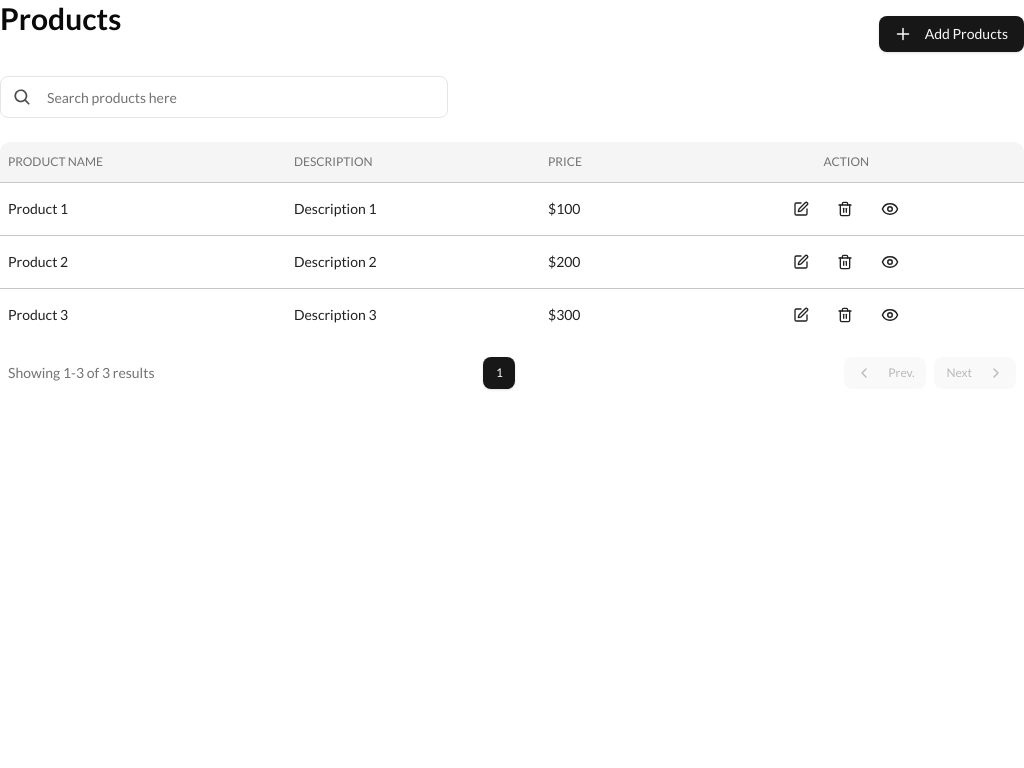
Test case: Products Component - Integration Tests › Dialog State Management › should close dialog when cancel is clicked
The image size is (1024, 768).
Click the button with test id "add-product-button" at (951, 34), box [879,16,1023,52]
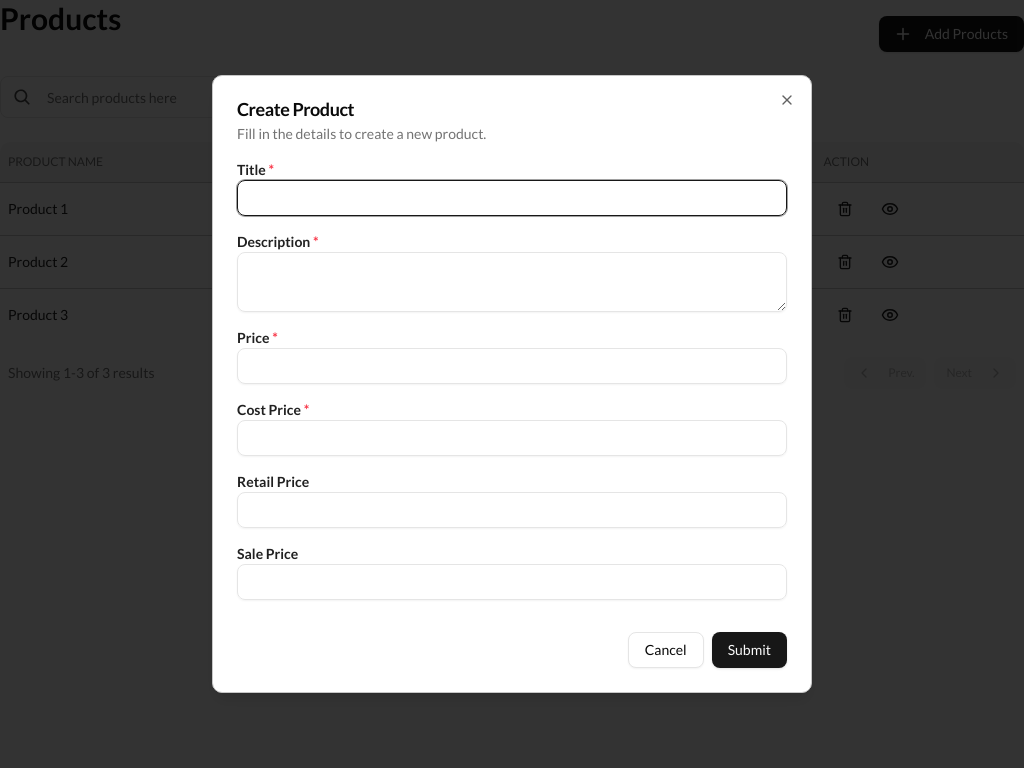
Expected: the dialog with test id "product-dialog" is shown, [212,75,812,693]
Click the button with test id "cancel-button" at (666, 650), box [628,632,704,668]
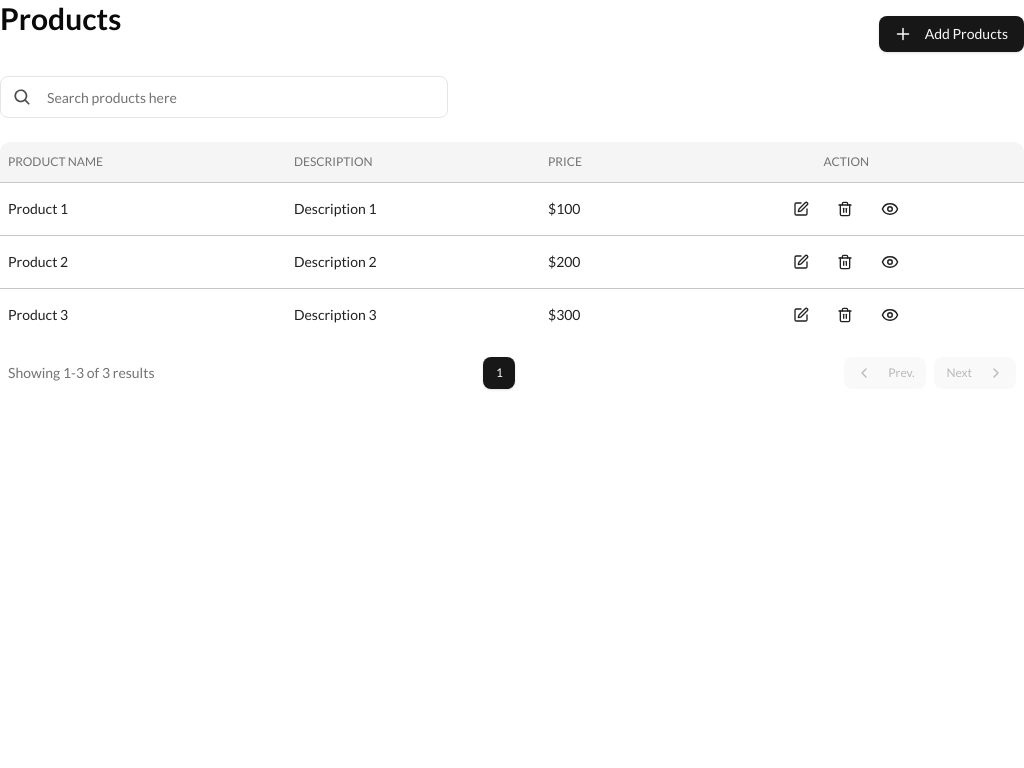
Expected: the dialog with test id "product-dialog" is gone
